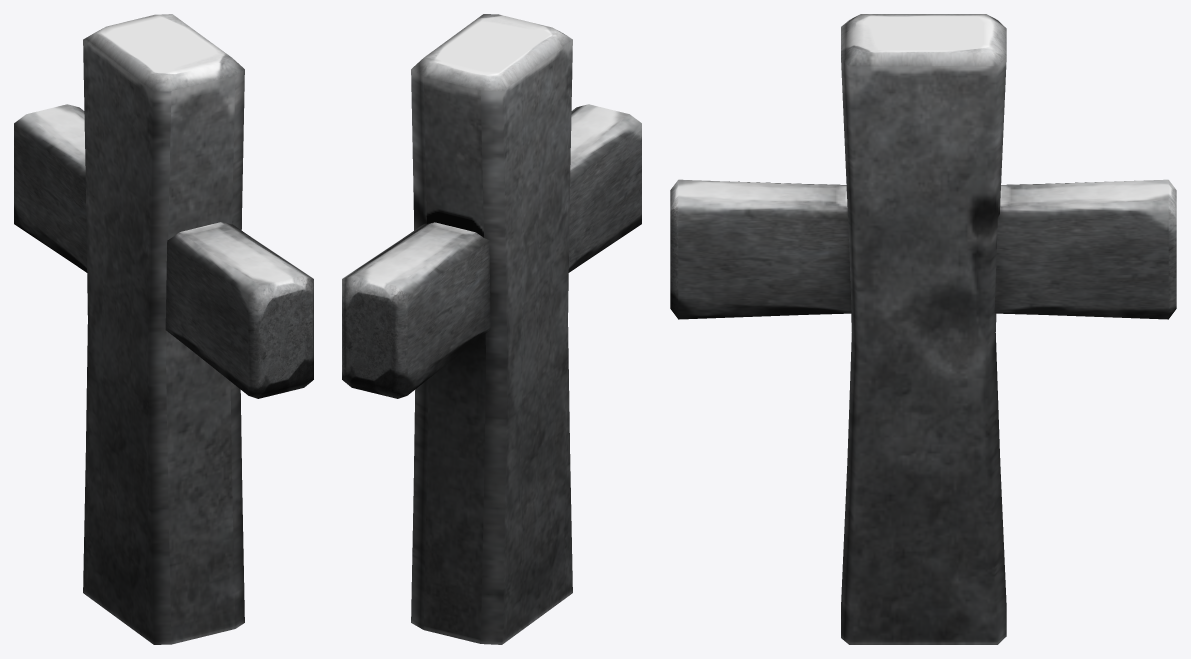
Rendered from GraveStone_5.fbx.
3 renders of one model, left to right at view 1: azimuth 30°, elevation 25°; view 2: azimuth 150°, elevation 25°; view 3: azimuth 270°, elevation 25°, orthographic. The views are drawn at different scales.
Parts seen in each view (by area): view 1: polySurface19; view 2: polySurface19; view 3: polySurface19.
Boxes of the visible parts, left/top/right/bottom form: polySurface19: left=14, top=14, right=313, bottom=644; polySurface19: left=342, top=14, right=641, bottom=644; polySurface19: left=670, top=14, right=1176, bottom=644.
Bounding box in the file's own units: 13.96 × 82.5 × 64.41.
